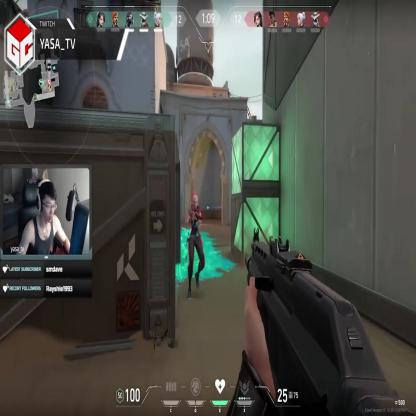enemy: (183, 187, 205, 298)
enemy_head: (192, 192, 198, 211)
